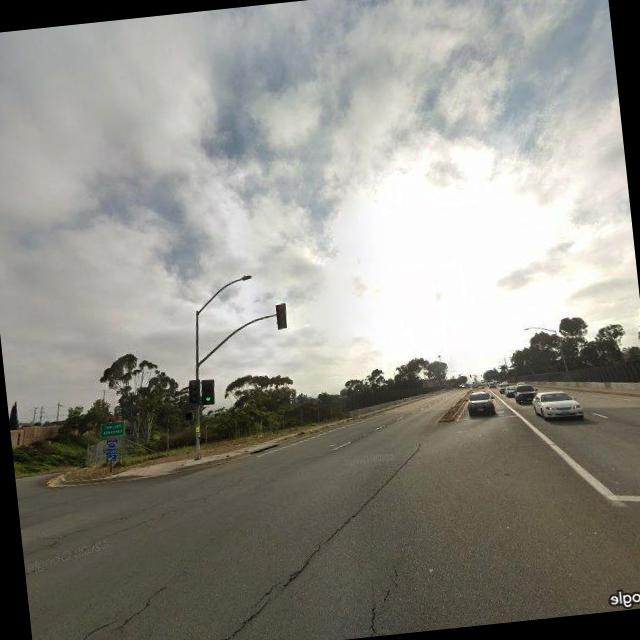pothole: (194, 441, 438, 640), (57, 578, 179, 640), (356, 560, 410, 636)
